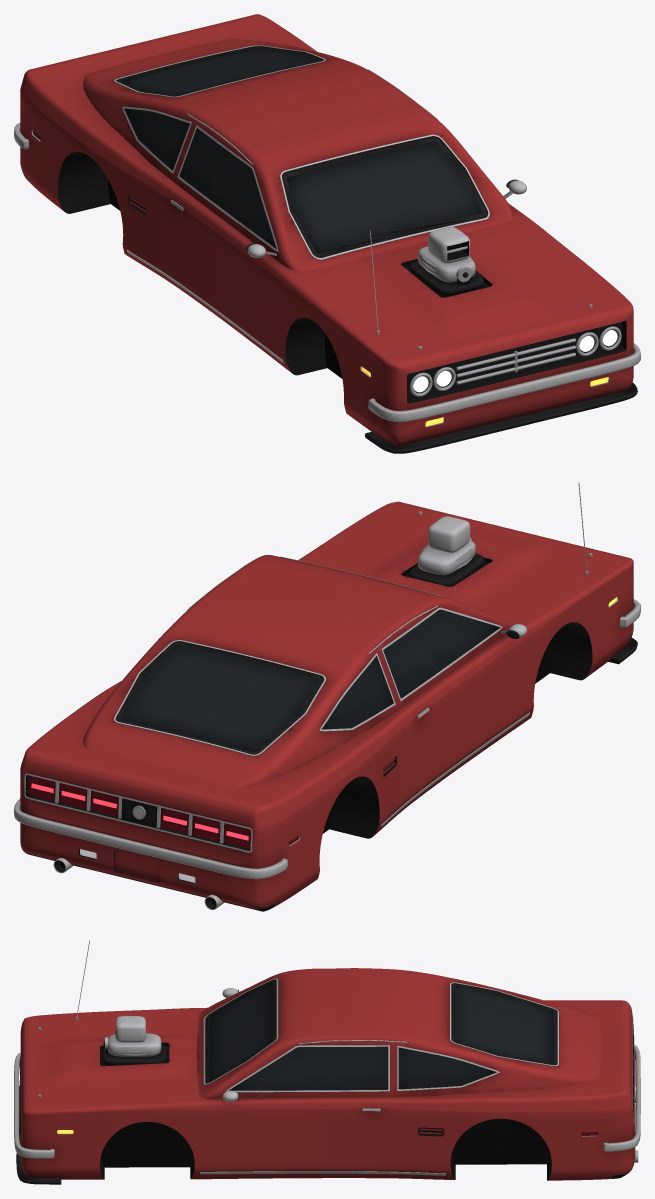
Rendered from brawler.glb.
3 renders of one model, top to bottom at view 1: azimuth 30°, elevation 25°; view 2: azimuth 150°, elevation 25°; view 3: azimuth 270°, elevation 25°, orthographic. The views are drawn at different scales.
Visible parts, largest first — view 1: paint, window, trim, chrome, grille, lens; view 2: paint, window, chrome, trim, tail, tailglow; view 3: paint, window, trim, chrome.
Boxes of the visible parts, box(x1,y1,x2,y2) form: paint: box(20, 14, 633, 445); window: box(117, 48, 487, 253); trim: box(23, 46, 637, 453); chrome: box(14, 45, 640, 427); grille: box(131, 197, 621, 399); lens: box(413, 330, 617, 392); paint: box(20, 501, 633, 908); window: box(116, 609, 499, 752); chrome: box(14, 482, 640, 909); trim: box(25, 553, 637, 911); tail: box(27, 775, 298, 849); tailglow: box(31, 783, 248, 840); paint: box(20, 968, 635, 1180); window: box(210, 983, 556, 1090); trim: box(16, 979, 633, 1184); chrome: box(14, 940, 640, 1175).
Size of what is drawn, in the model's own units: 2.01 by 1.32 by 4.89.
